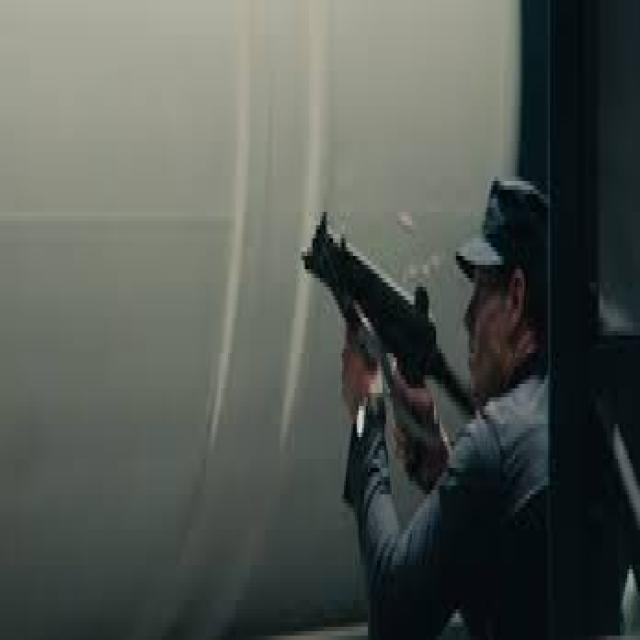Rifle: (299, 193, 473, 516)
